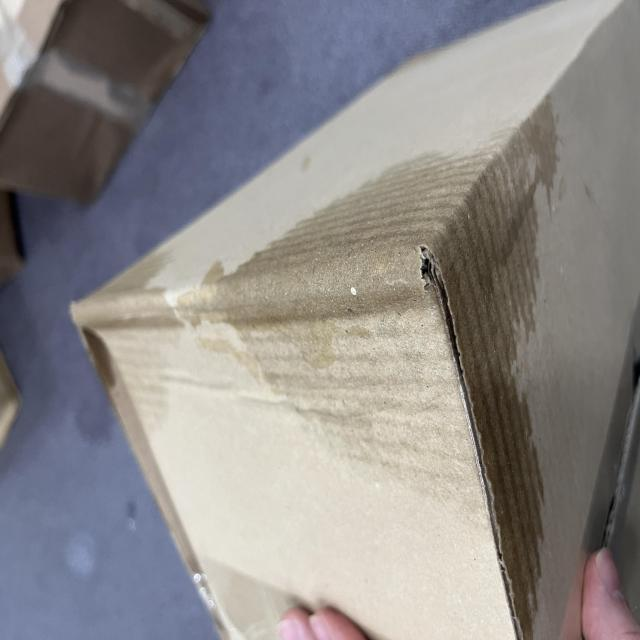wet: (82, 3, 425, 509)
